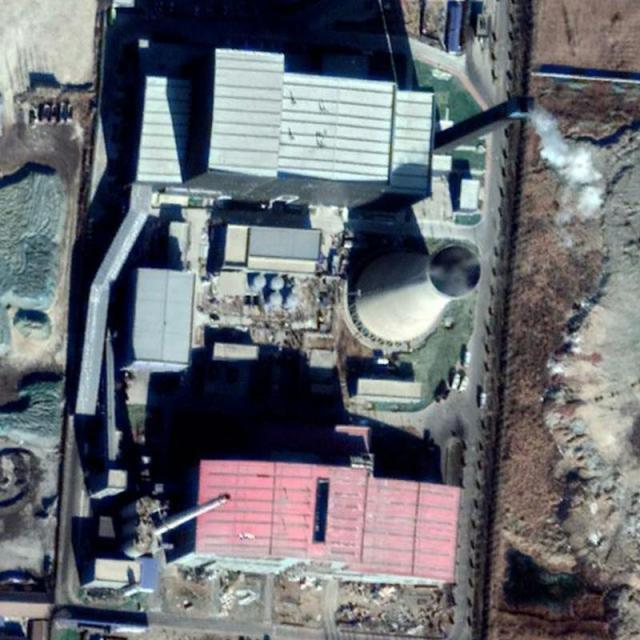vehicle: (450, 372, 461, 390), (459, 375, 469, 393), (462, 352, 472, 368), (479, 392, 487, 410)
